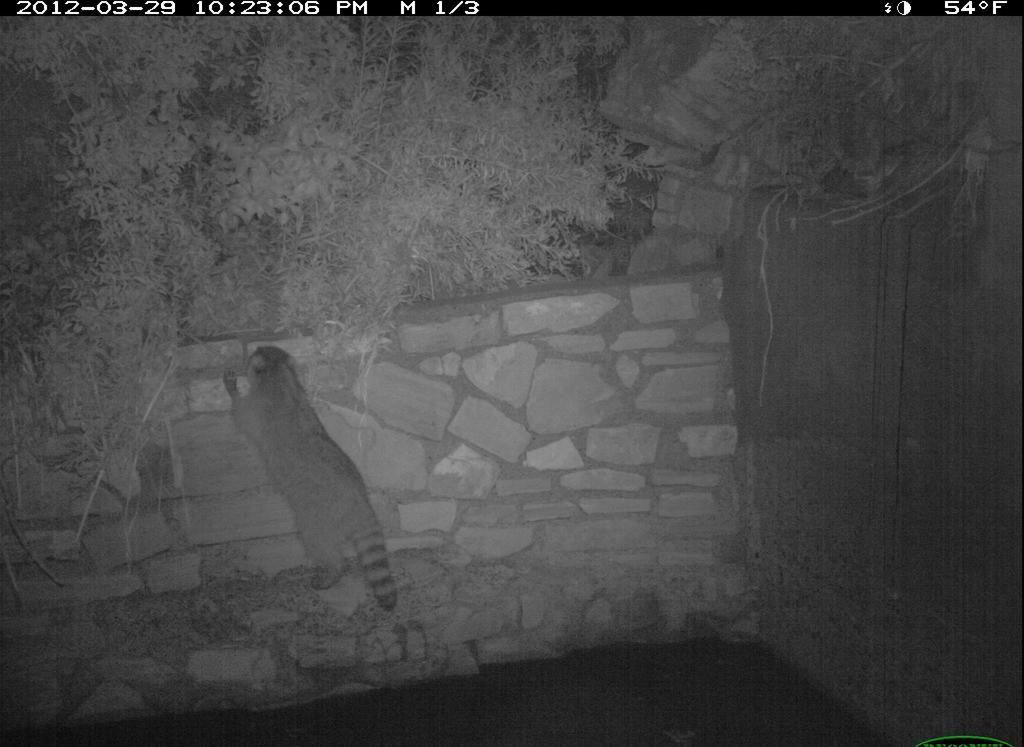raccoon: (219, 340, 411, 612)
